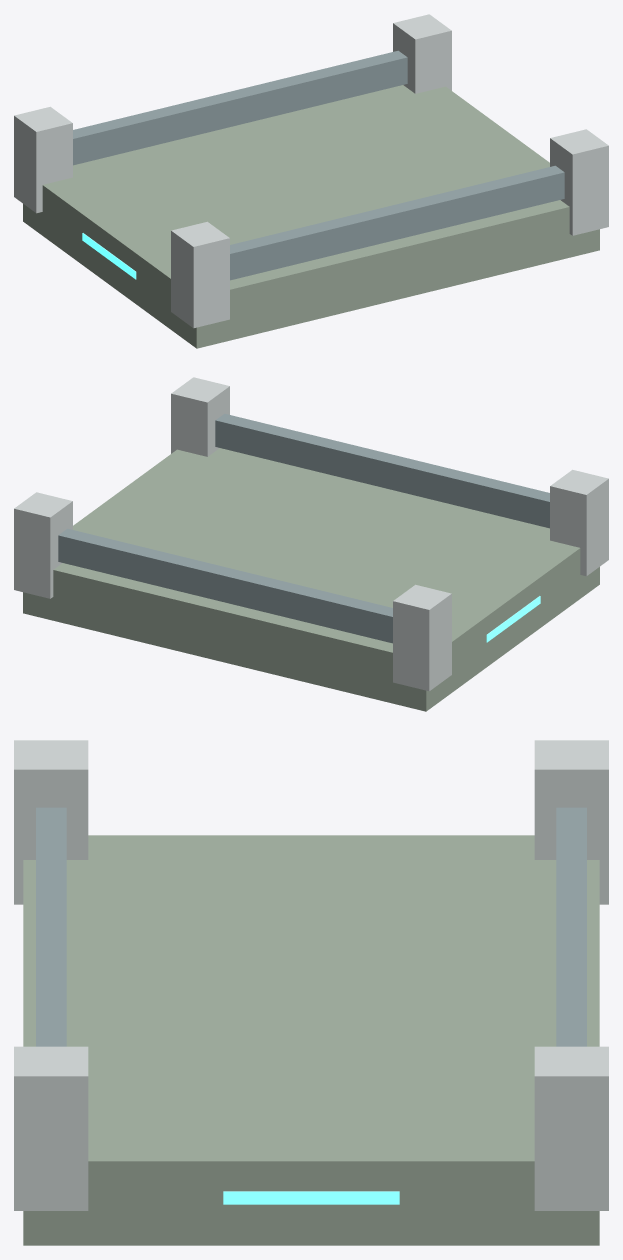
The model's file is s7-e0e1-rm04-reinforced-mature-carrier.glb.
3 views of the same model, one above another, from view 1: azimuth 30°, elevation 25°; view 2: azimuth 150°, elevation 25°; view 3: azimuth 270°, elevation 25° (orthographic). The views are drawn at different scales.
Parts seen in each view (by area): view 1: reinforced-carrier-platform-000, carrier-side-rail-006, carrier-side-rail-005, carrier-anchor-post-002, carrier-anchor-post-001, carrier-anchor-post-004, carrier-anchor-post-003, carrier-status-rail-007; view 2: reinforced-carrier-platform-000, carrier-side-rail-005, carrier-side-rail-006, carrier-anchor-post-001, carrier-anchor-post-002, carrier-anchor-post-003, carrier-anchor-post-004, carrier-status-rail-007; view 3: reinforced-carrier-platform-000, carrier-anchor-post-003, carrier-anchor-post-004, carrier-anchor-post-001, carrier-anchor-post-002, carrier-side-rail-005, carrier-side-rail-006, carrier-status-rail-008.
Part boxes in pixels (x1,y1,x2,y2): reinforced-carrier-platform-000: (23, 85, 599, 348); carrier-side-rail-006: (230, 165, 564, 280); carrier-side-rail-005: (73, 50, 407, 165); carrier-anchor-post-002: (171, 221, 229, 328); carrier-anchor-post-001: (14, 106, 72, 213); carrier-anchor-post-004: (550, 129, 608, 235); carrier-anchor-post-003: (393, 14, 451, 93); carrier-status-rail-007: (82, 233, 136, 279); reinforced-carrier-platform-000: (23, 448, 599, 711); carrier-side-rail-005: (58, 528, 392, 643); carrier-side-rail-006: (215, 413, 549, 528); carrier-anchor-post-001: (393, 584, 451, 691); carrier-anchor-post-002: (550, 469, 608, 576); carrier-anchor-post-003: (14, 492, 72, 598); carrier-anchor-post-004: (171, 377, 229, 456); carrier-status-rail-007: (486, 596, 540, 642); reinforced-carrier-platform-000: (23, 835, 599, 1245); carrier-anchor-post-003: (534, 1046, 608, 1210); carrier-anchor-post-004: (14, 1046, 88, 1210); carrier-anchor-post-001: (534, 740, 608, 904); carrier-anchor-post-002: (14, 740, 88, 904); carrier-side-rail-005: (556, 807, 586, 1046); carrier-side-rail-006: (36, 807, 66, 1046); carrier-status-rail-008: (223, 1191, 399, 1204).
Size of the model in its own units: 0.855 by 0.207 by 0.64.
